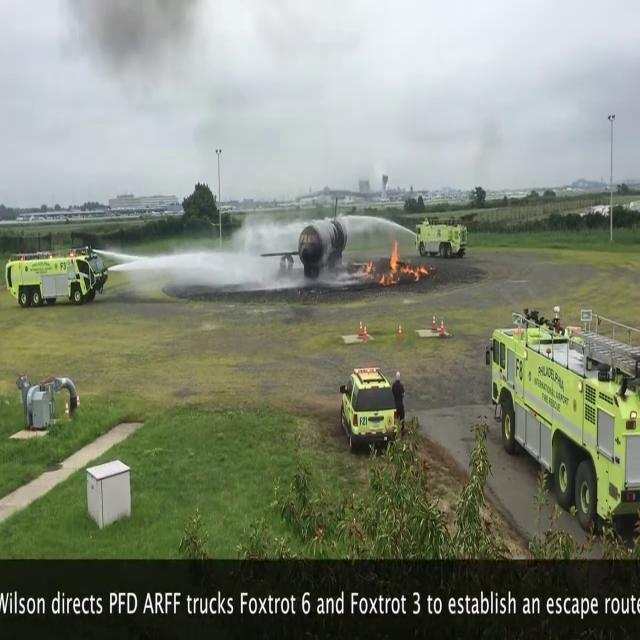Fire: (383, 233, 405, 286)
Smoke: (81, 0, 249, 123)
